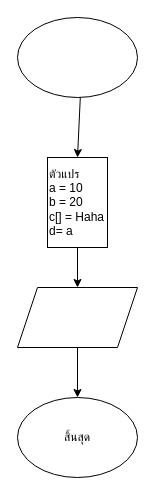
This 155x495 diagram has some shape labels left out. The centre of each missing label's shape, as x and y in pixels:
10 20.0 Haha a: the point at 77,317
เริ่มต้น: the point at 77,57
